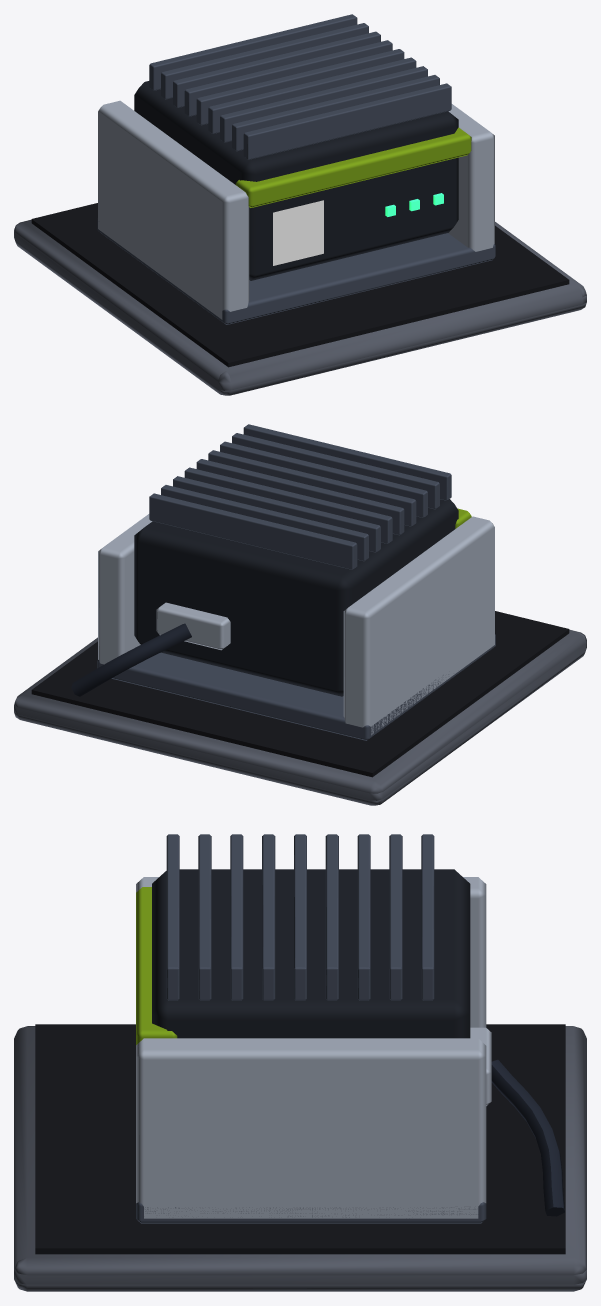
File: ebs.glb
3 renders of one model, top to bottom at view 1: azimuth 30°, elevation 25°; view 2: azimuth 150°, elevation 25°; view 3: azimuth 270°, elevation 25°, orthographic. The views are drawn at different scales.
Visible parts, largest first — view 1: body.steel, body.steel_light, body.rubber, body.bezel, body.concrete, body.accent, body.badge; view 2: body.steel, body.bezel, body.steel_light, body.rubber, body.concrete, body.cable; view 3: body.steel_light, body.rubber, body.bezel, body.concrete, body.steel, body.cable, body.accent.
Boxes of the visible parts, x1=… form: body.steel: x1=97, y1=14, x2=495, y2=324; body.steel_light: x1=98, y1=100, x2=494, y2=319; body.rubber: x1=31, y1=203, x2=569, y2=367; body.bezel: x1=134, y1=81, x2=458, y2=280; body.concrete: x1=14, y1=219, x2=586, y2=395; body.accent: x1=235, y1=127, x2=471, y2=207; body.badge: x1=273, y1=200, x2=323, y2=265; body.steel: x1=97, y1=424, x2=495, y2=740; body.bezel: x1=134, y1=499, x2=458, y2=696; body.steel_light: x1=98, y1=514, x2=494, y2=735; body.rubber: x1=31, y1=611, x2=569, y2=777; body.concrete: x1=14, y1=629, x2=586, y2=805; body.cable: x1=71, y1=623, x2=191, y2=696; body.steel_light: x1=136, y1=877, x2=491, y2=1218; body.rubber: x1=35, y1=1024, x2=565, y2=1254; body.bezel: x1=152, y1=869, x2=470, y2=1038; body.concrete: x1=14, y1=1026, x2=586, y2=1291; body.steel: x1=136, y1=834, x2=486, y2=1223; body.cable: x1=491, y1=1059, x2=564, y2=1216; body.accent: x1=136, y1=887, x2=177, y2=1044.
Size of the model in its own units: 1.08 by 0.572 by 1.08.
